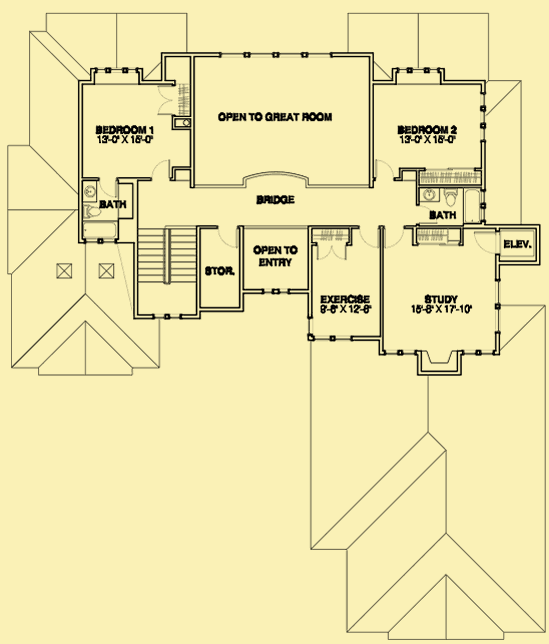door: (311, 239, 352, 262), (154, 79, 176, 120), (472, 227, 502, 255), (372, 157, 398, 189), (355, 219, 381, 249), (149, 158, 175, 187), (214, 220, 240, 249), (94, 172, 119, 200), (382, 225, 406, 253)
large sink: (78, 202, 105, 220), (441, 186, 462, 209)
small sink: (82, 177, 98, 202), (419, 187, 441, 204)
stairs: (130, 223, 203, 323)
tub: (81, 220, 122, 240), (461, 187, 481, 223)
windows: (217, 43, 338, 64), (489, 275, 505, 336), (473, 89, 489, 147), (396, 64, 443, 79), (313, 332, 359, 347), (256, 285, 294, 302), (97, 62, 139, 77), (460, 345, 496, 360), (384, 345, 418, 360)
